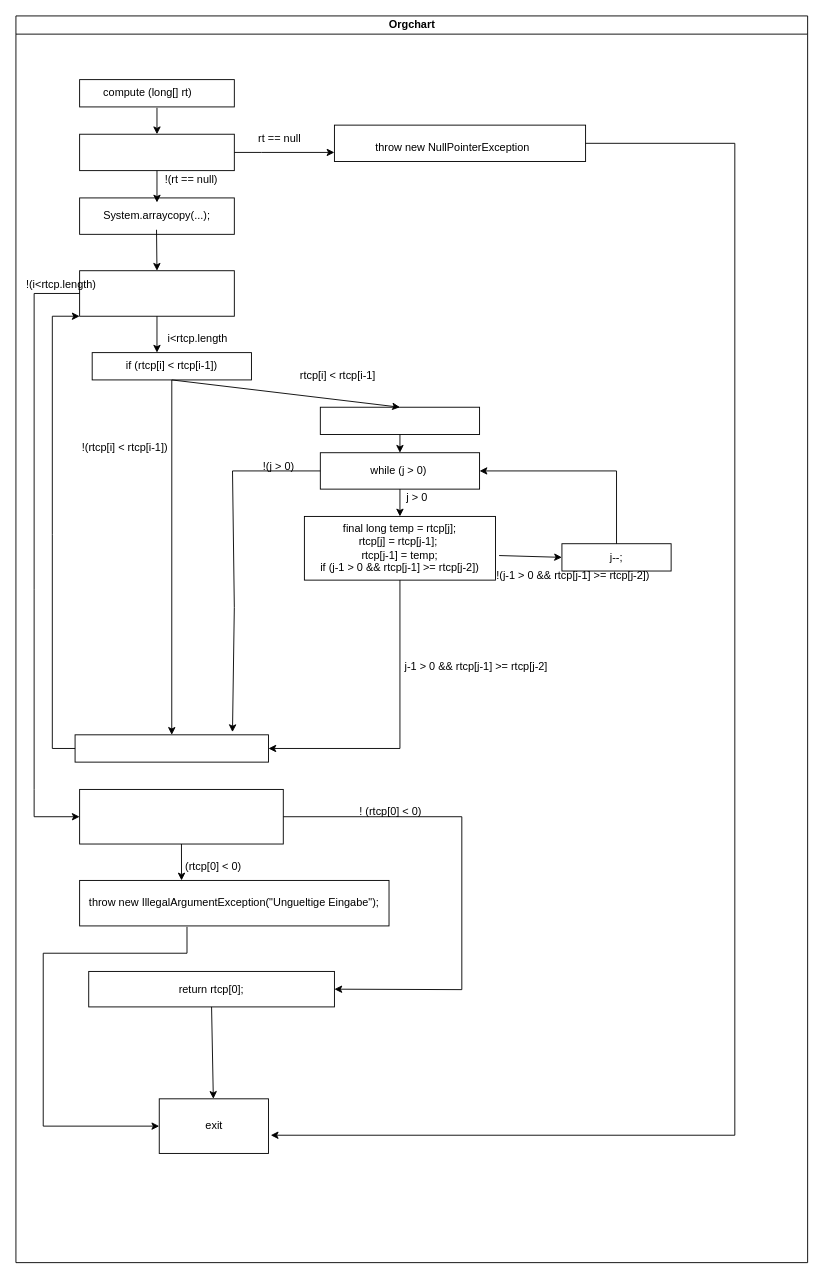
This 824x1279 diagram has some shape labels left out. Here are the shapes that lost their labels. From the top down, the centre of each, then its label:
At point 156,152: "int i = 1; long[] rtcp = ..;".
At point 156,293: "while(i<rtcp.length)".
At point 399,420: "int j = i;".
At point 171,748: "i++;".
At point 181,816: "if (rtcp[0] < 0)".
